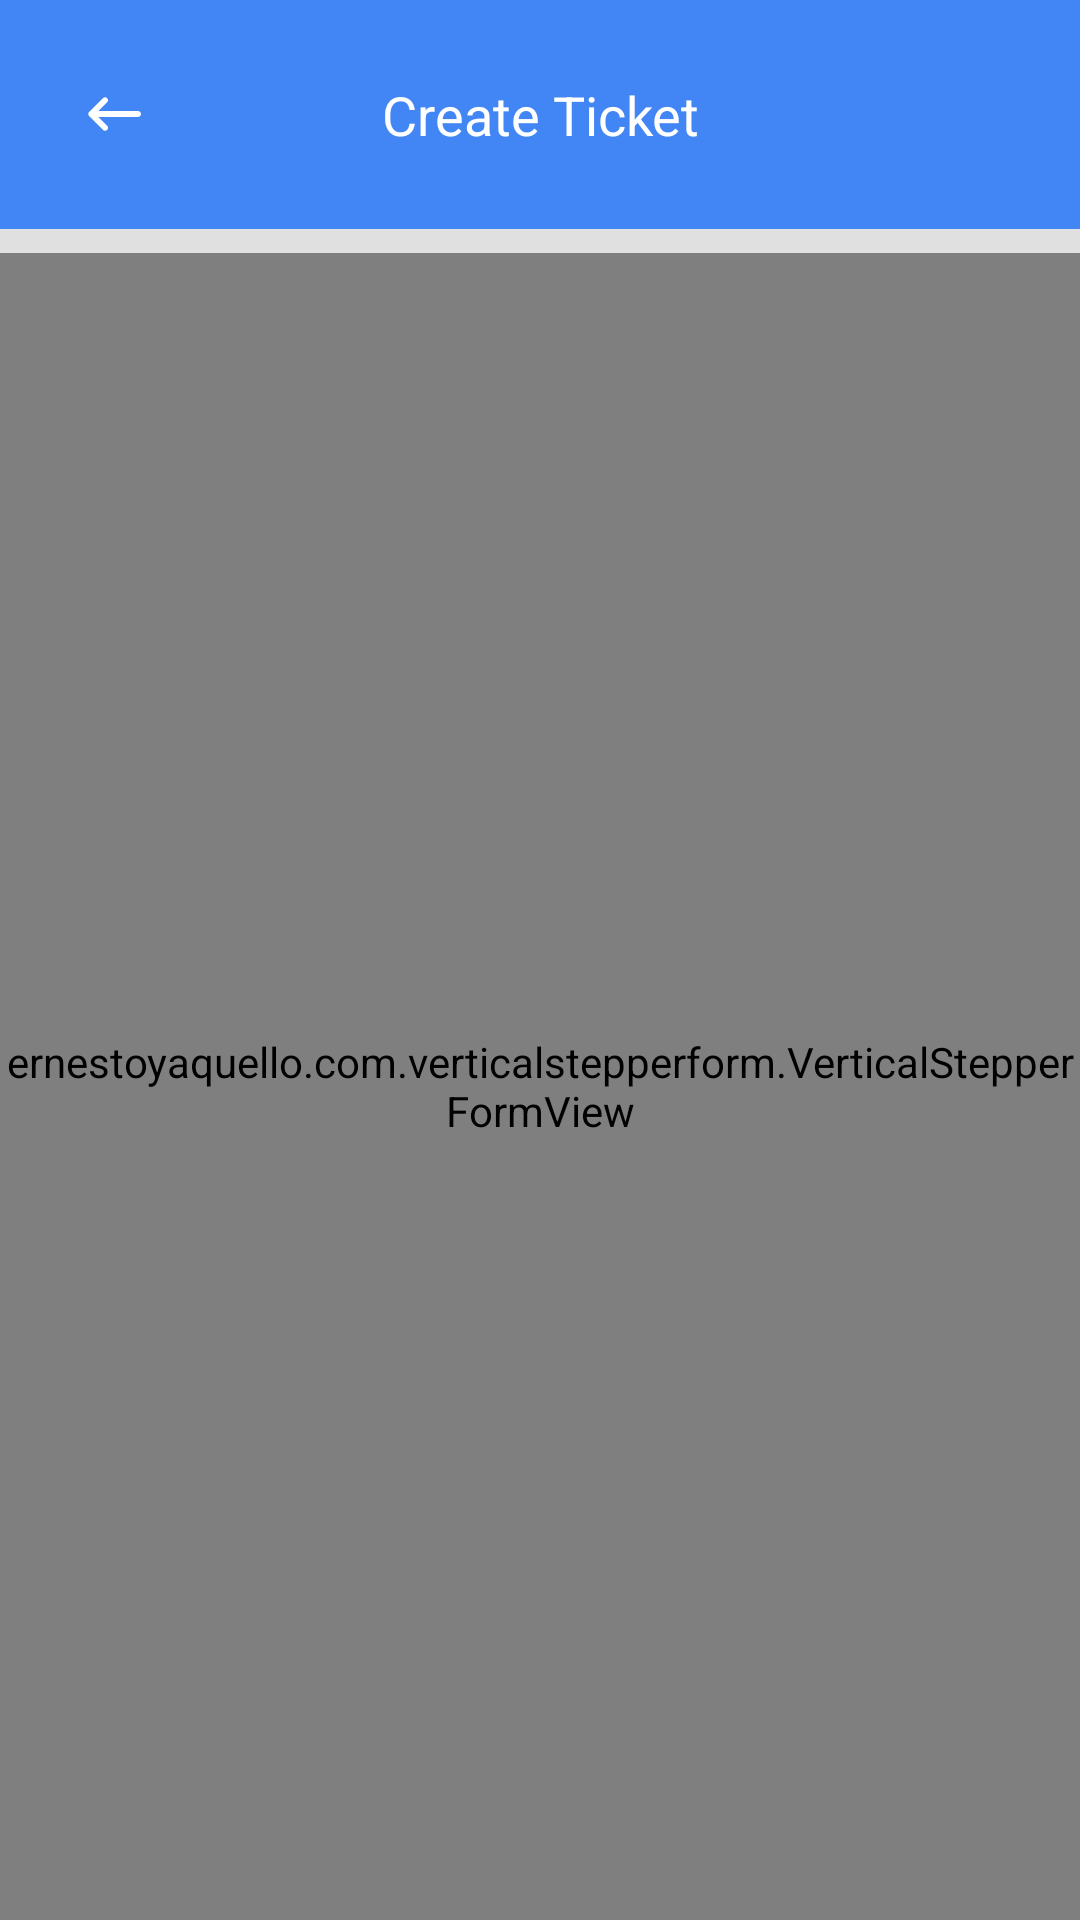

Where to tap for icons on this 1080x1920 app screen, as (x=x, y=y):
keyboard backspace: (x=114, y=114)
